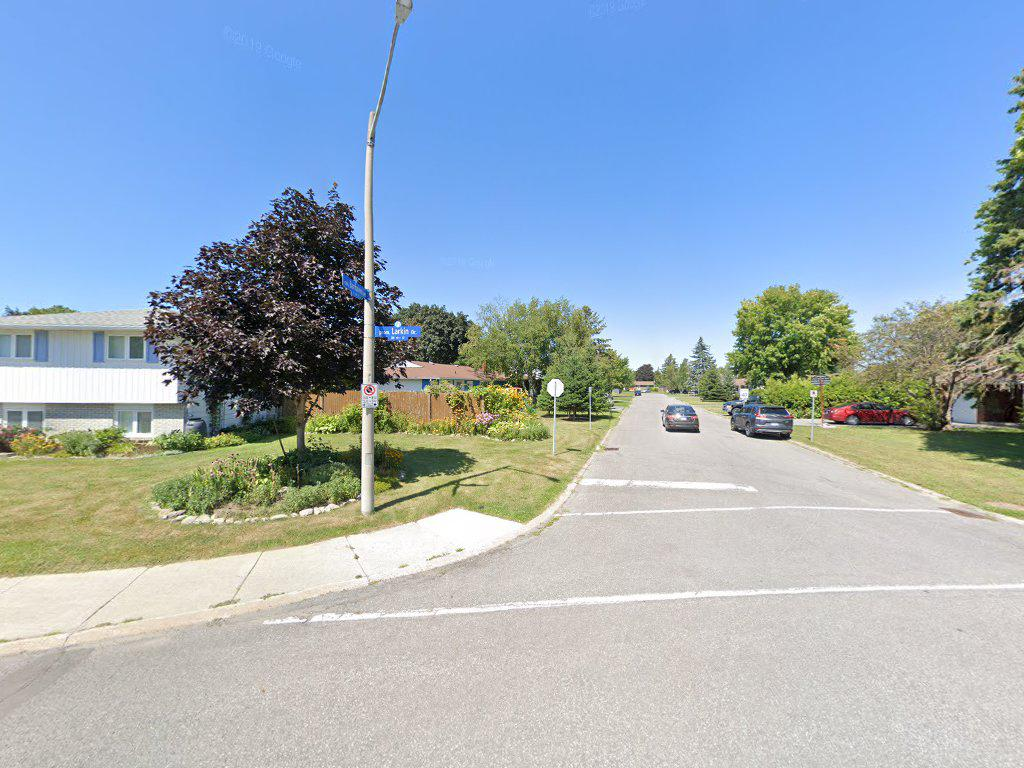trunk: (290, 384, 313, 469)
